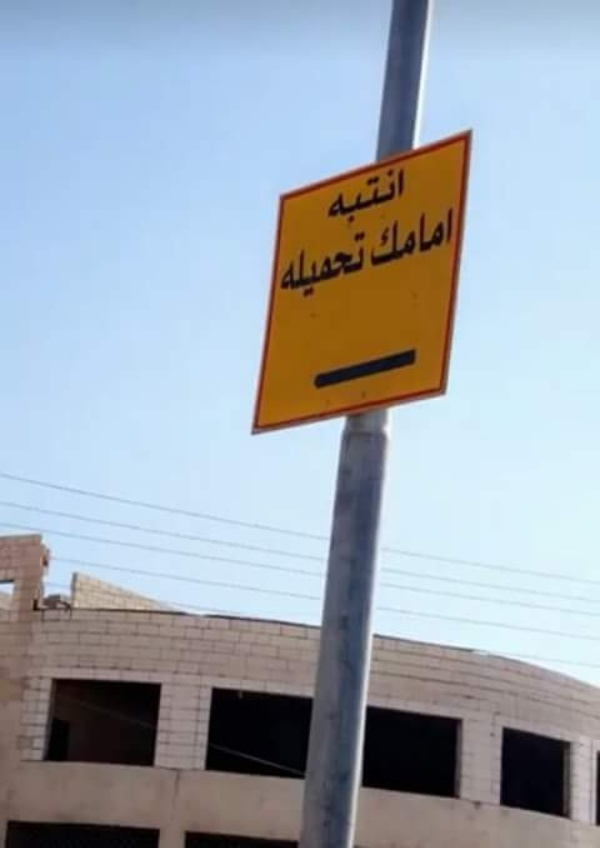text: (289, 224, 304, 303), (305, 224, 320, 303), (321, 224, 336, 303), (337, 224, 352, 303), (353, 224, 368, 303), (369, 202, 384, 271), (385, 202, 400, 271), (401, 202, 416, 271), (417, 202, 432, 271), (433, 202, 448, 271), (337, 163, 352, 229), (353, 163, 368, 229), (369, 163, 384, 229), (385, 163, 400, 229), (449, 202, 461, 271), (278, 224, 288, 303), (326, 163, 336, 229), (401, 163, 411, 229), (369, 224, 371, 303)
